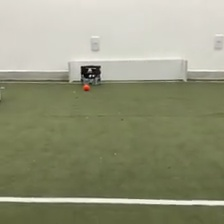ball: (81, 82, 90, 92)
goal: (66, 57, 189, 85)
robot: (78, 63, 103, 87)
